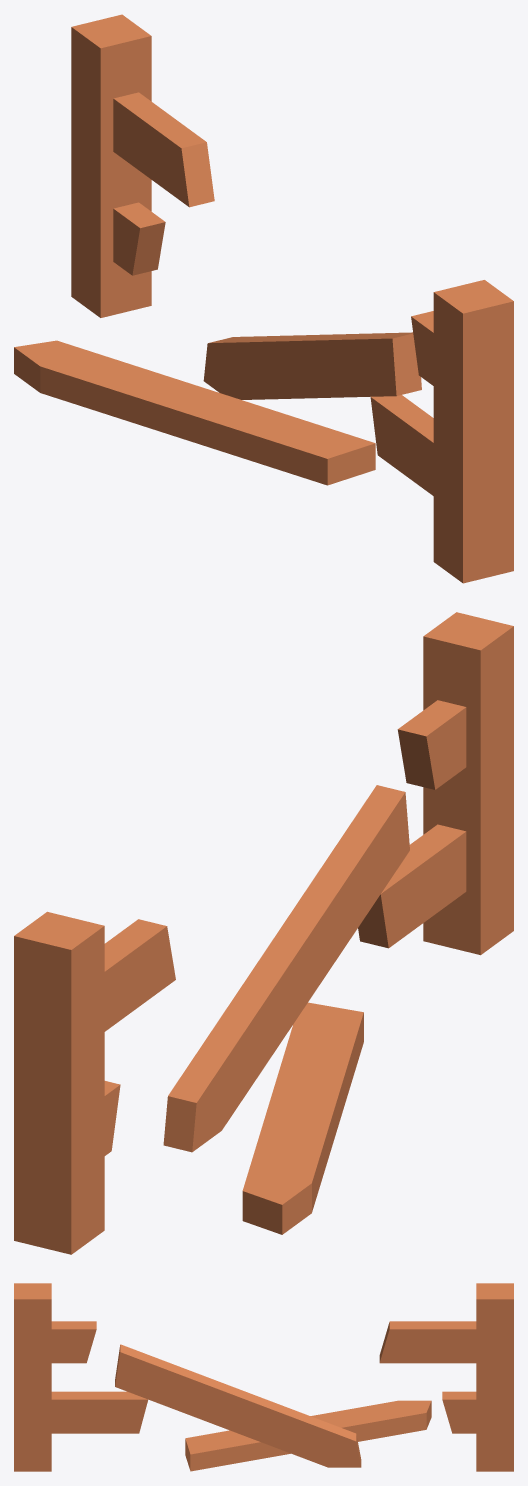
The model's file is fenceBroken.fbx.
3 views of the same model, one above another, from view 1: azimuth 30°, elevation 25°; view 2: azimuth 150°, elevation 25°; view 3: azimuth 270°, elevation 25° (orthographic). The views are drawn at different scales.
Visible parts, largest first — view 1: fenceBroken; view 2: fenceBroken; view 3: fenceBroken.
Part boxes in pixels (left/top/right/bottom): fenceBroken: left=14, top=14, right=513, bottom=583; fenceBroken: left=14, top=612, right=513, bottom=1254; fenceBroken: left=14, top=1283, right=513, bottom=1471.
Bounding box in the file's own units: 2.55 × 3.8 × 10.
